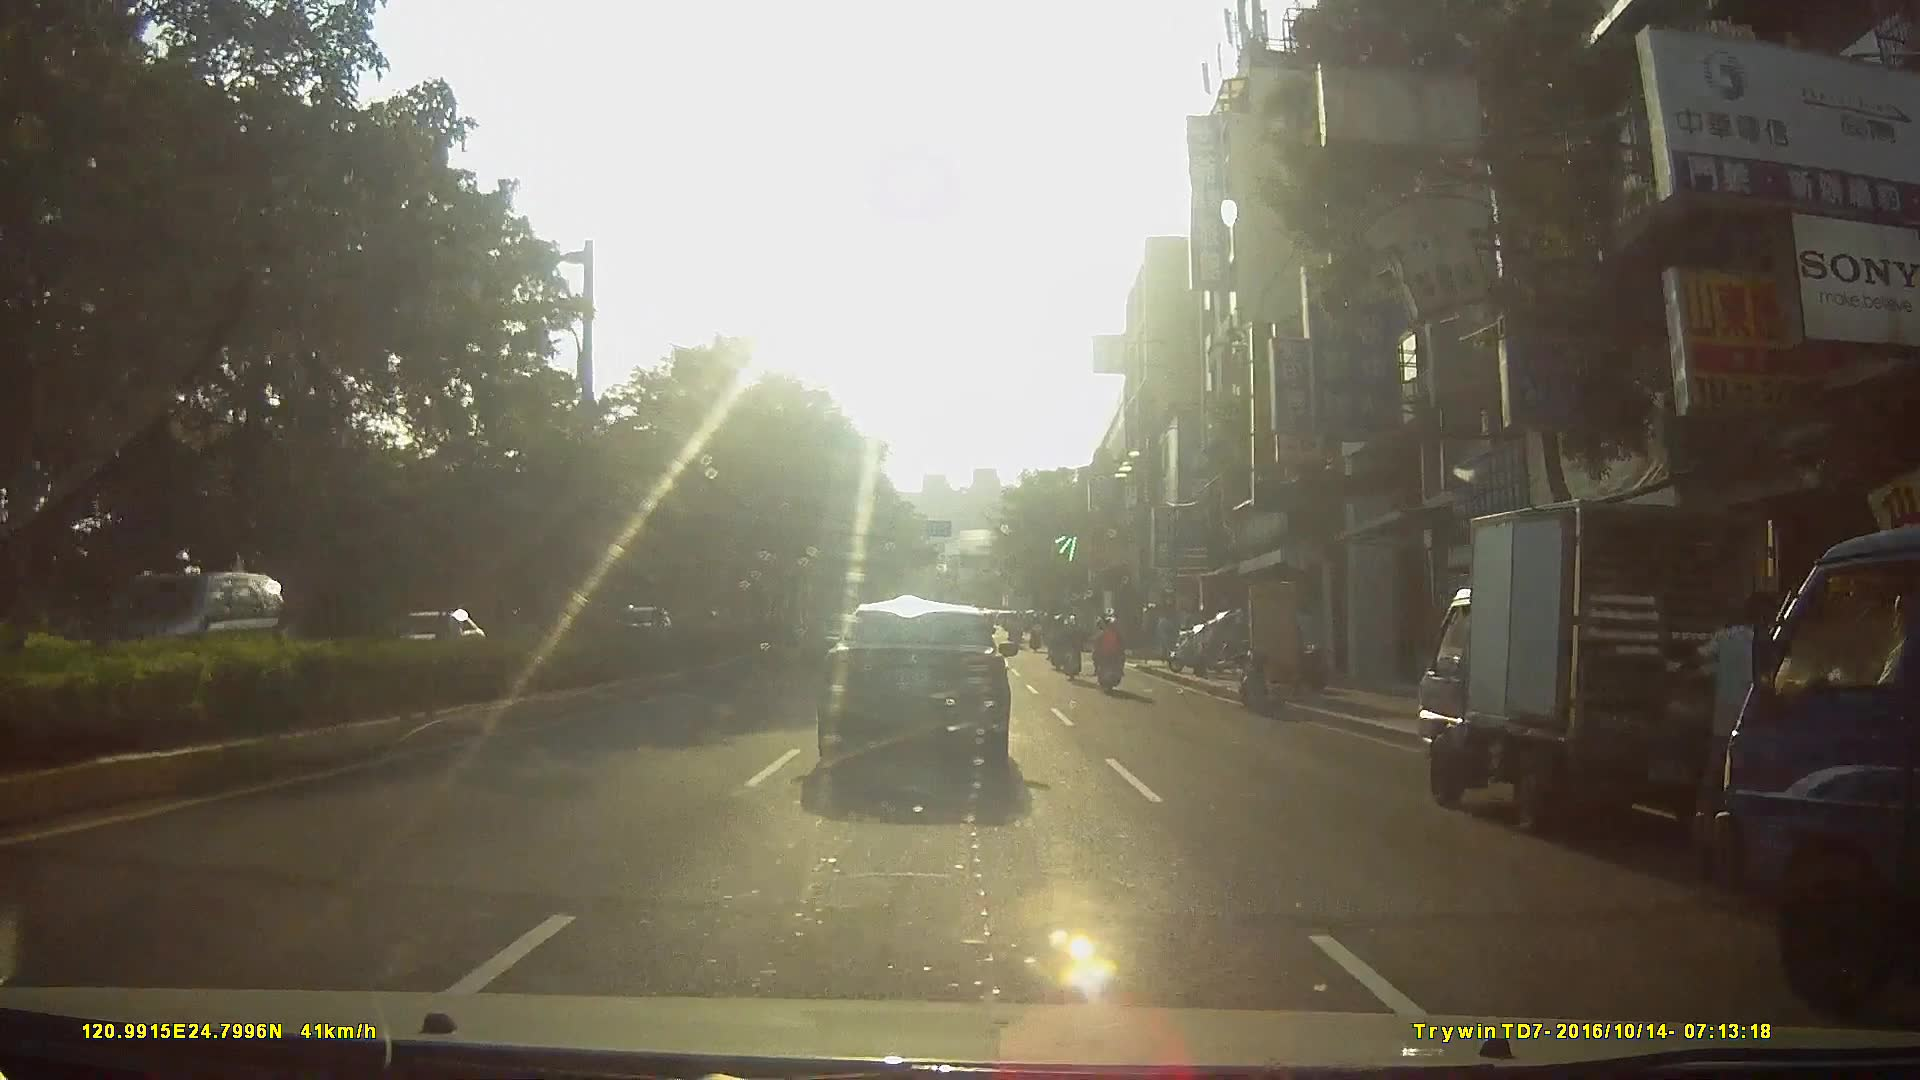rider: (1091, 616, 1128, 697), (1058, 610, 1085, 684), (1048, 607, 1068, 665)
vehicle: (1414, 488, 1770, 834), (810, 593, 1023, 785), (76, 570, 292, 692)
